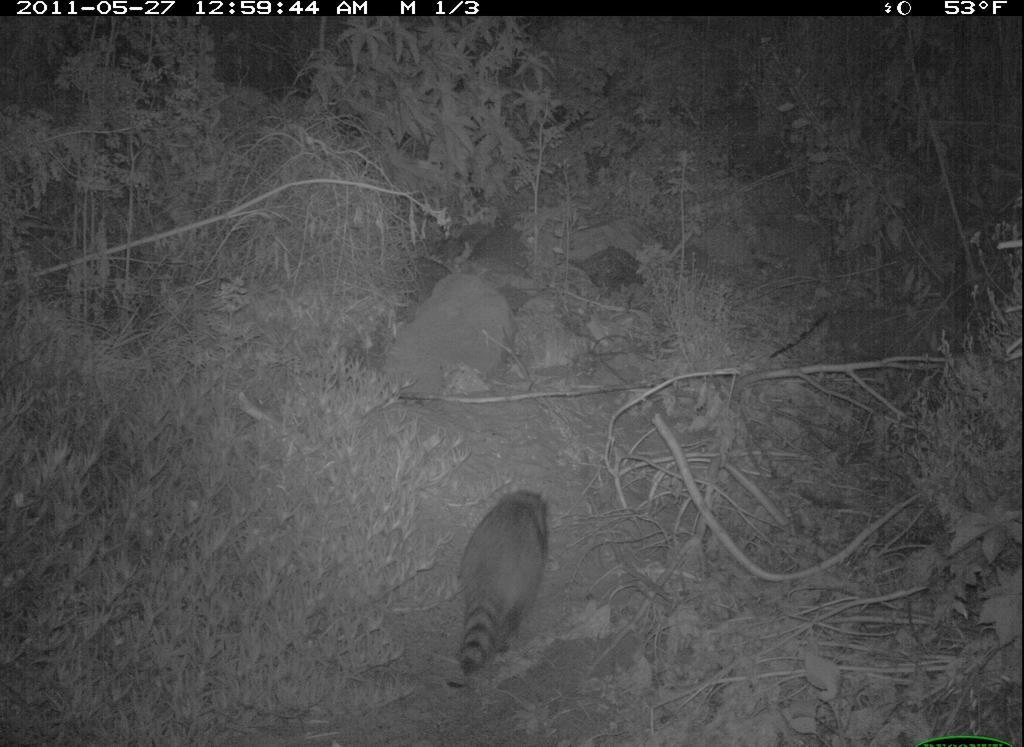raccoon: (432, 468, 578, 675)
